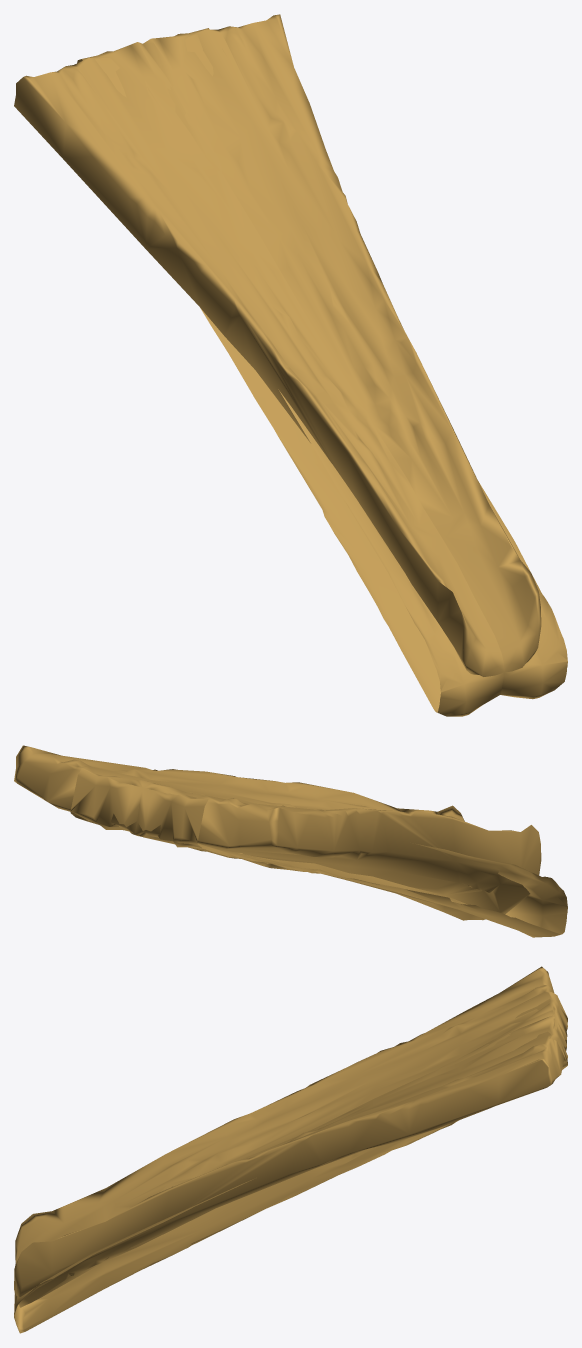
The picture shows the model from 3 angles, top to bottom: view 1: azimuth 30°, elevation 25°; view 2: azimuth 150°, elevation 25°; view 3: azimuth 270°, elevation 25°; orthographic projection. The views are drawn at different scales.
Visible parts, largest first — view 1: 环甲正中韧带; view 2: 环甲正中韧带; view 3: 环甲正中韧带.
Part boxes in pixels (x1,y1,x2,y2): 环甲正中韧带: (14, 14, 567, 716); 环甲正中韧带: (14, 745, 567, 937); 环甲正中韧带: (14, 966, 567, 1333).
Bounding box in the file's own units: 0.00781 × 0.0115 × 0.019.
